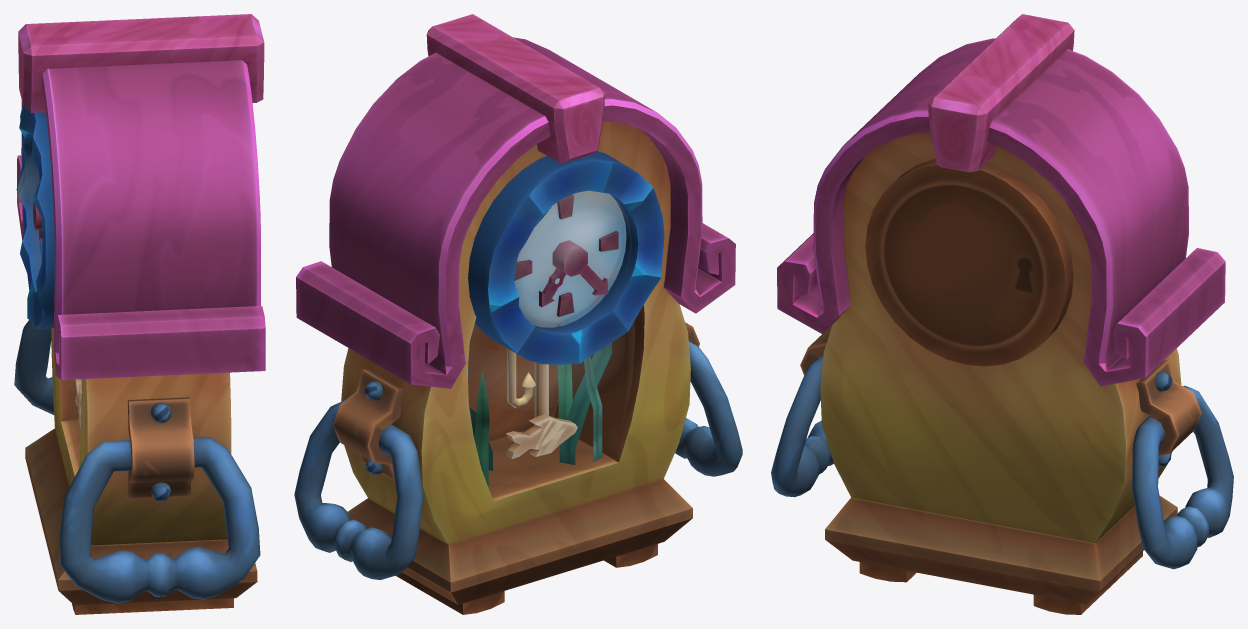
File: clock.glb
3 renders of one model, left to right at view 1: azimuth 30°, elevation 25°; view 2: azimuth 150°, elevation 25°; view 3: azimuth 270°, elevation 25°, orthographic. The views are drawn at different scales.
Parts seen in each view (by area): view 1: Object_2; view 2: Object_2; view 3: Object_2.
Part boxes in pixels (x1=…): Object_2: x1=14, y1=14, x2=265, y2=614; Object_2: x1=294, y1=14, x2=742, y2=614; Object_2: x1=771, y1=14, x2=1233, y2=614.
Bounding box in the file's own units: 2.84 × 4.57 × 3.78.
Materials: 1 (1 with a texture image).
